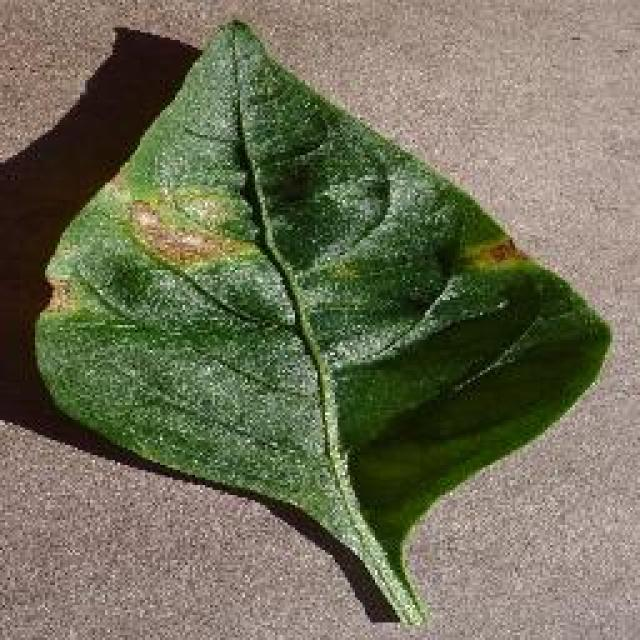Chilli_Bacterial_Spot: (28, 15, 612, 625), (120, 180, 528, 282), (122, 180, 260, 272), (168, 182, 248, 238), (452, 233, 528, 275), (268, 165, 312, 207), (40, 273, 78, 315)
